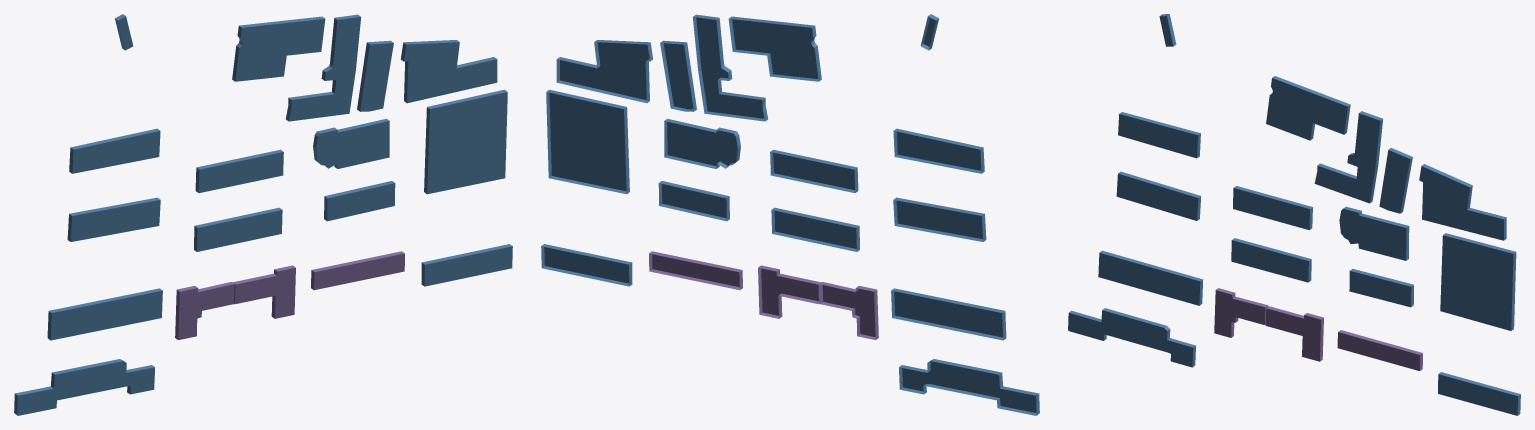
Rendered from buildings_k19.obj.
3 views of the same model, side by side, from view 1: azimuth 30°, elevation 25°; view 2: azimuth 150°, elevation 25°; view 3: azimuth 330°, elevation 25° (orthographic). The views are drawn at different scales.
Parts seen in each view (by area): view 1: roof4, zone4, roof5, zone5; view 2: roof4, zone4, roof5, zone5; view 3: roof4, zone4, roof5, zone5.
Part boxes in pixels (x1,y1,x2,y2): roof4: (17,16,512,415); zone4: (14,14,512,415); roof5: (178,253,404,339); zone5: (175,251,404,339); roof4: (544,17,1036,412); zone4: (541,14,1039,415); roof5: (652,254,875,336); zone5: (649,251,878,339); roof4: (1068,16,1517,415); zone4: (1069,14,1520,415); roof5: (1214,290,1420,370); zone5: (1216,288,1422,370).
Size of the model in its own units: 392 by 287 by 4.33.
